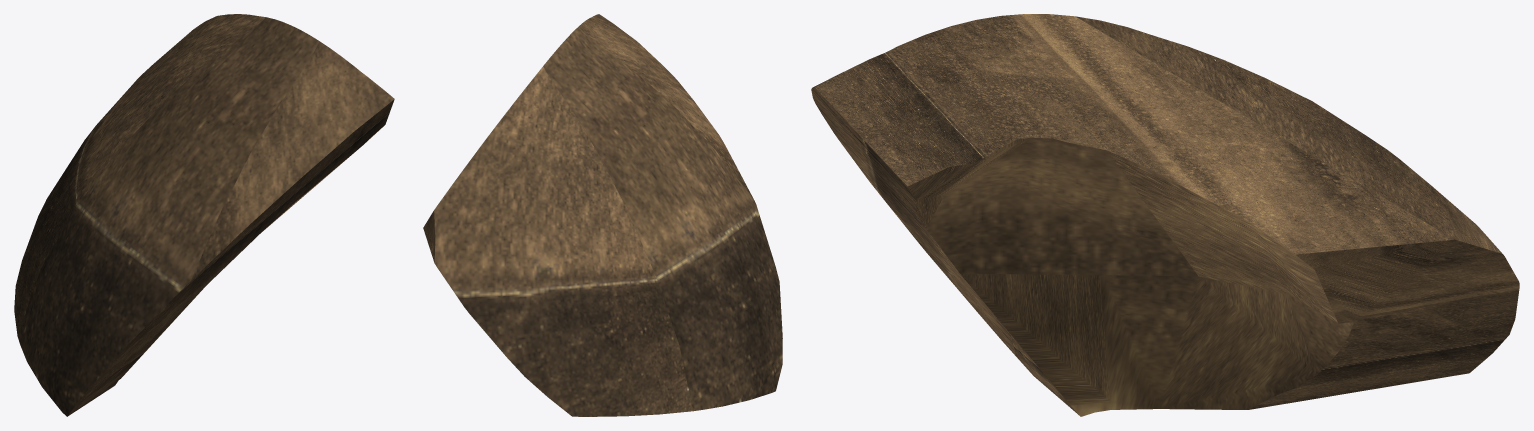
3 renders of one model, left to right at view 1: azimuth 30°, elevation 25°; view 2: azimuth 150°, elevation 25°; view 3: azimuth 270°, elevation 25°, orthographic. The views are drawn at different scales.
Parts seen in each view (by area): view 1: Cylinder_cell.002; view 2: Cylinder_cell.002; view 3: Cylinder_cell.002.
Part boxes in pixels (x1=…): Cylinder_cell.002: x1=14, y1=14, x2=394, y2=416; Cylinder_cell.002: x1=423, y1=14, x2=782, y2=416; Cylinder_cell.002: x1=811, y1=14, x2=1519, y2=416.
Bounding box in the file's own units: 0.7033 × 0.7976 × 0.936.
1 material, 1 textured.
